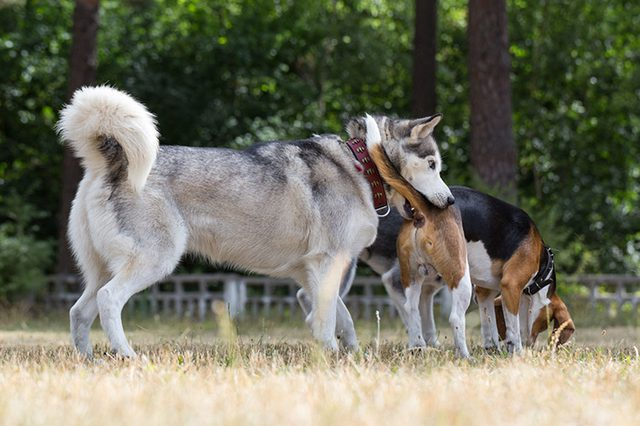tail: (57, 79, 163, 209)
